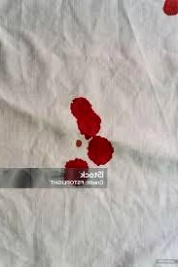blood: (70, 96, 101, 140), (87, 142, 116, 165), (64, 160, 89, 186), (161, 1, 177, 17)
